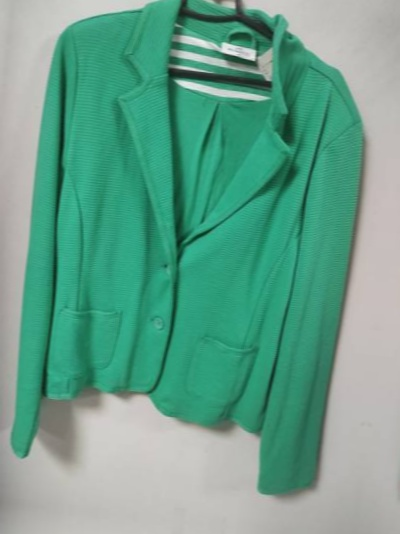Blazer: (0, 0, 378, 510), (389, 29, 400, 534), (0, 529, 320, 534)
